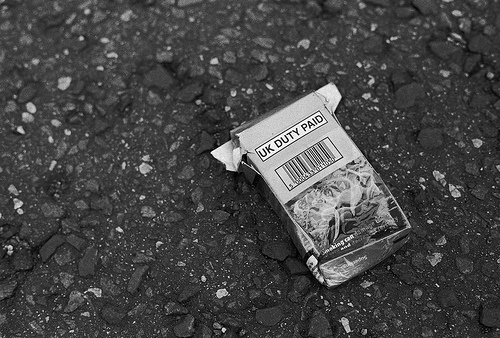litter: (209, 82, 408, 285)
